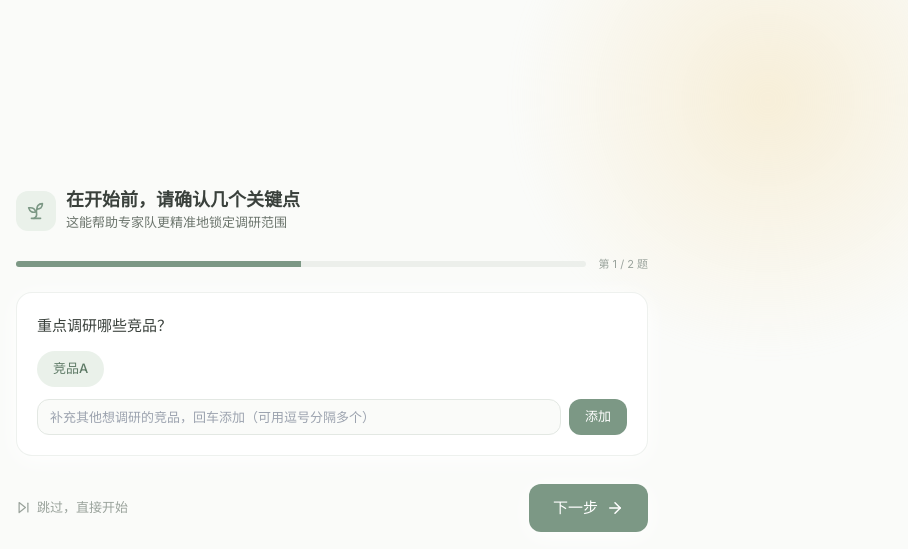
Test: T-AutoAdvance 自动前进（单选 + 多选） › TC-AA8 competitors 单步自定义补充后同样停顿自动前进（走 maybeAdvance 统一路径）
The image size is (908, 549).
Expected: the text "重点调研哪些竞品？" is shown, [37,316,172,335]
In the field with placeholder "补充其他想调研的竞品，回车添加（可用逗号分隔多个）": (299, 416) [37,398,561,434], type "自研新品"
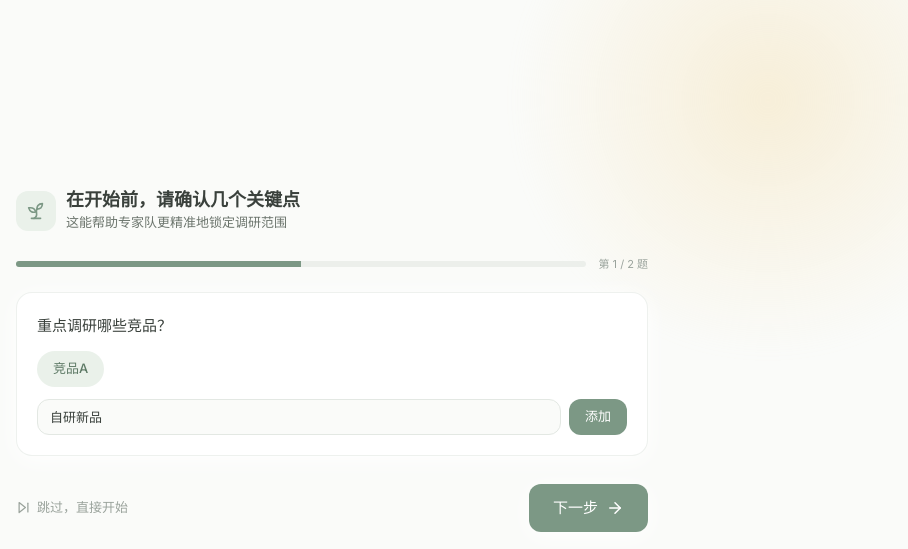
Click the button "添加": (598, 416) [569,398,627,434]
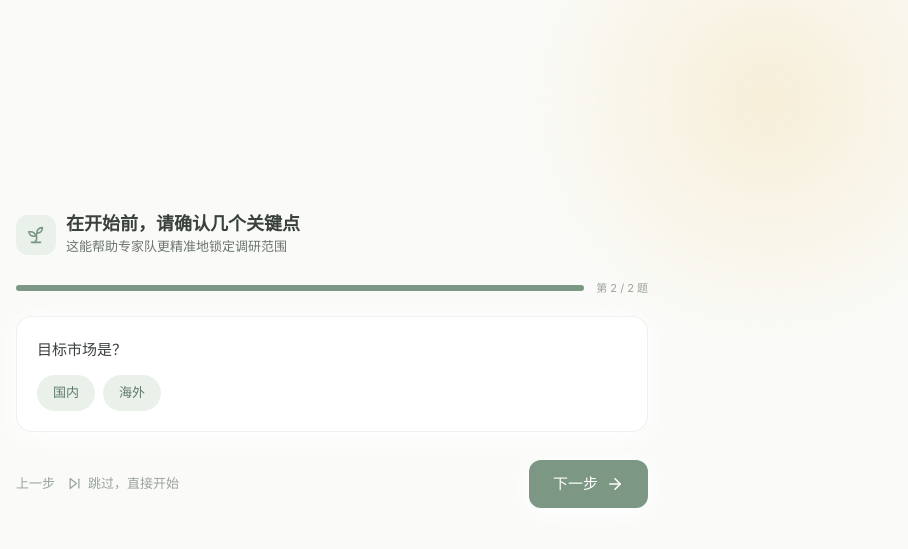
Expected: the button "完成本题" is shown, [529,460,648,508]
Now the text "目标市场是？" is shown, box [37,340,127,359]
